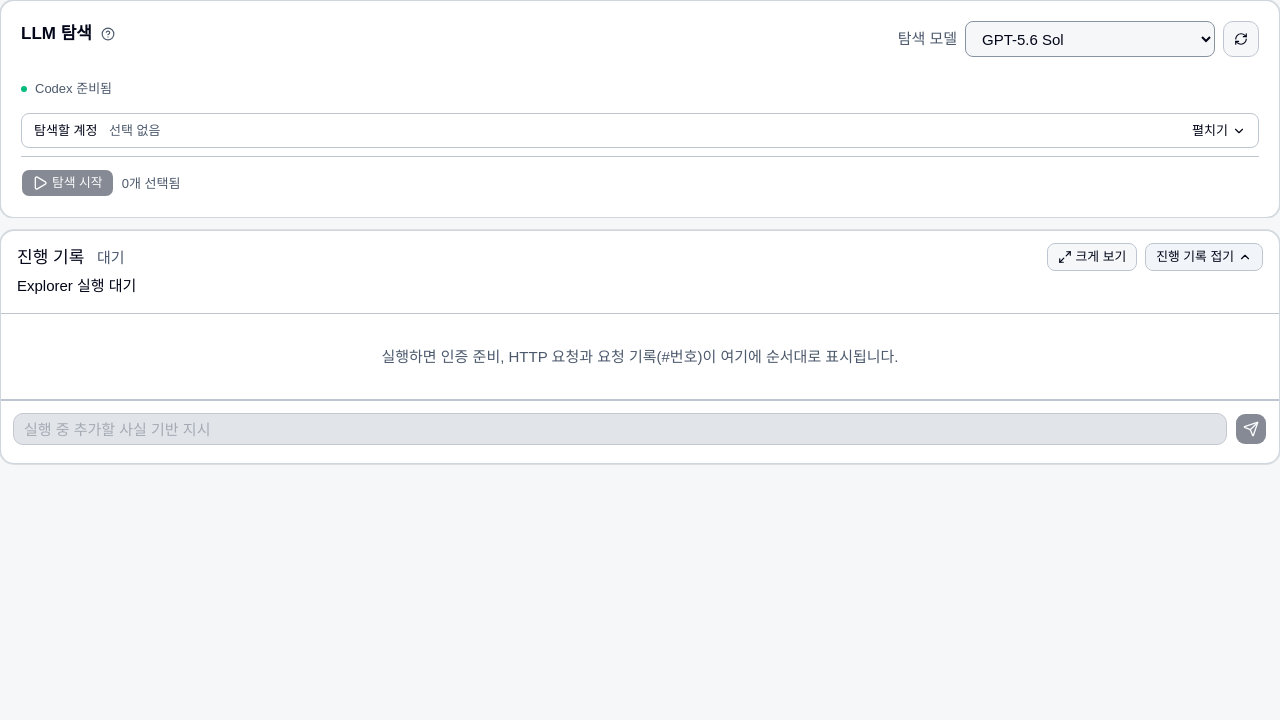
Test: opens a login window for a registered account and adopts its session on [로그인 완료]
Click the button "탐색할 계정 선택 없음 펼치기".
click(68, 130)  # box [22,114,1258,147]
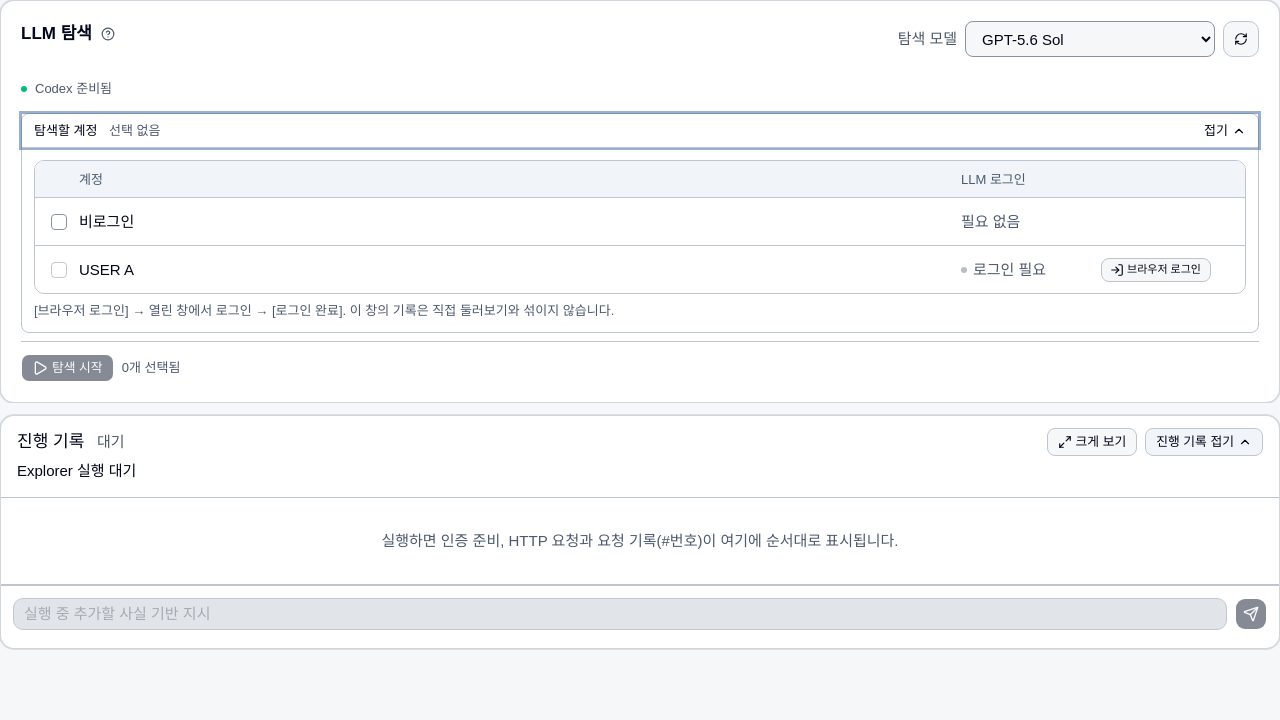
Click the button with aria-label "USER A 브라우저 로그인".
click(1156, 270)  # box [1101,258,1211,282]
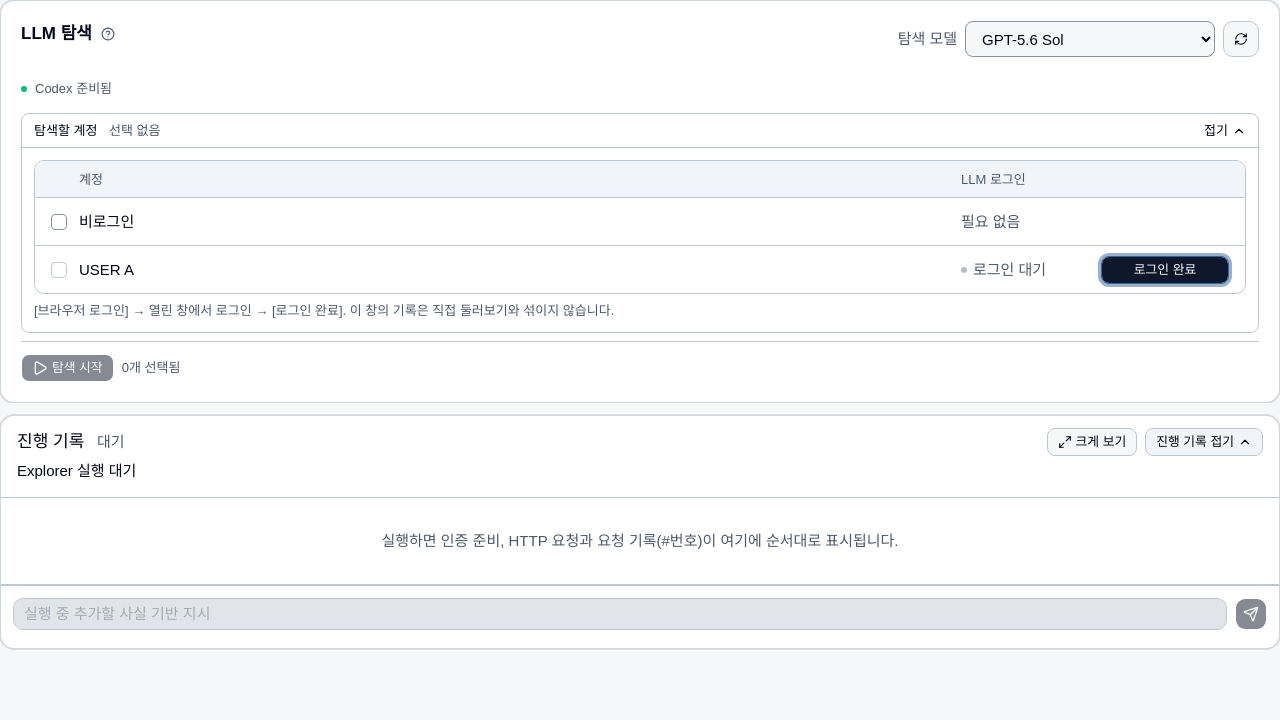
Expected: the button "탐색 시작" is disabled, [21,354,114,382]
Expected: the checkbox named "비로그인" is not checked, [51,214,67,230]
Click the button with aria-label "USER A 로그인 완료".
click(1165, 270)  # box [1101,256,1229,284]
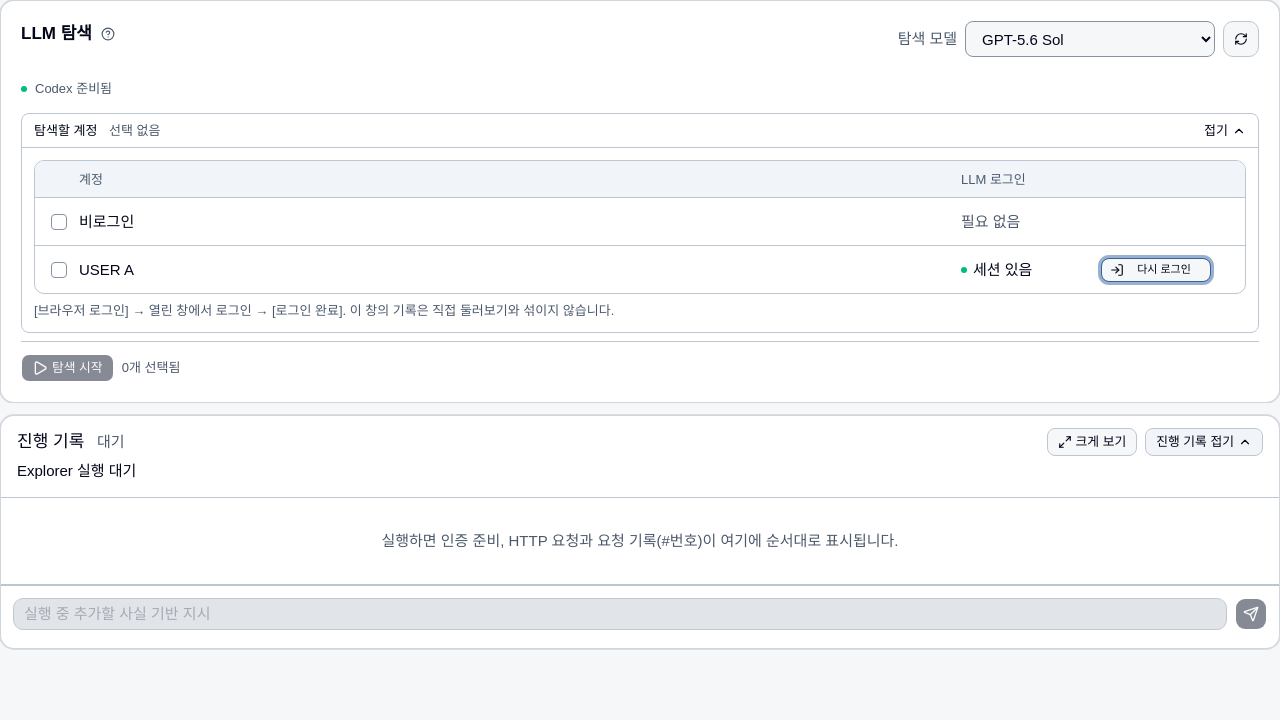
Expected: the checkbox named "비로그인" is not checked, [51,214,67,230]
Expected: the text "세션 있음" is shown, [961,261,1032,278]
Expected: the checkbox named "USER A" is enabled
Click the checkbox named "USER A".
click(59, 270)  # box [51,262,67,278]
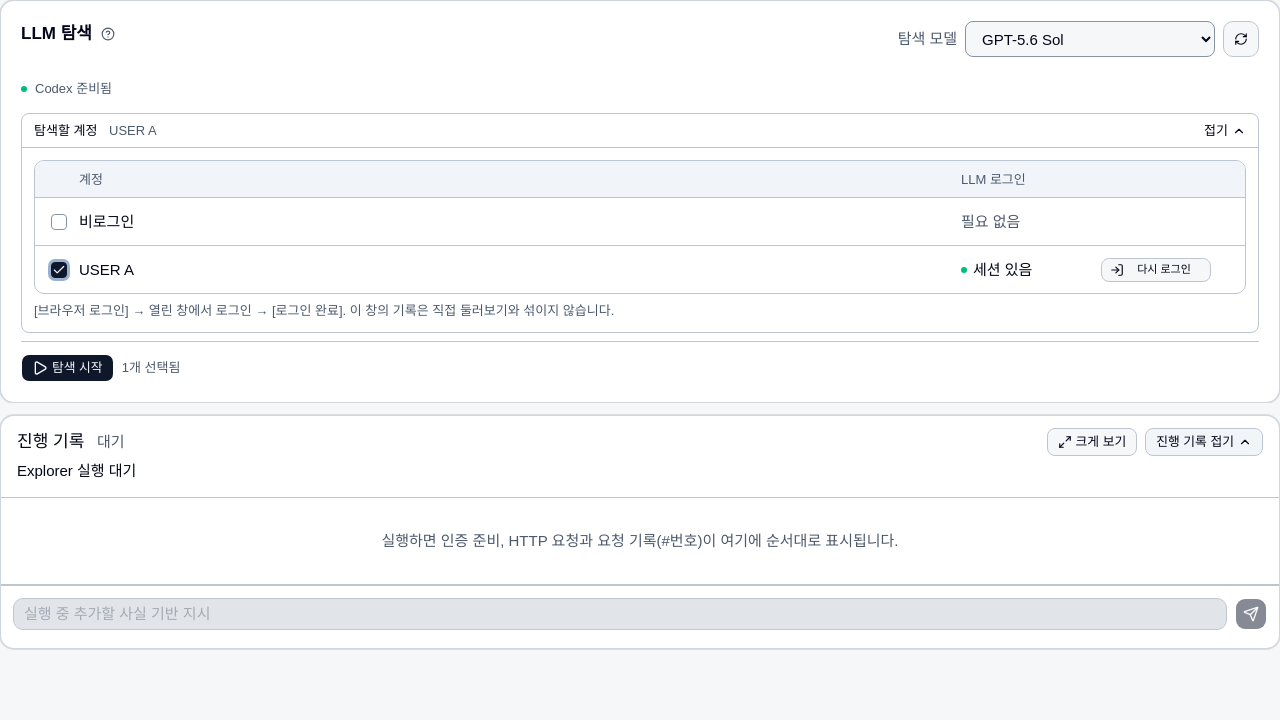
Expected: the button "탐색 시작" is enabled, [21,354,114,382]
